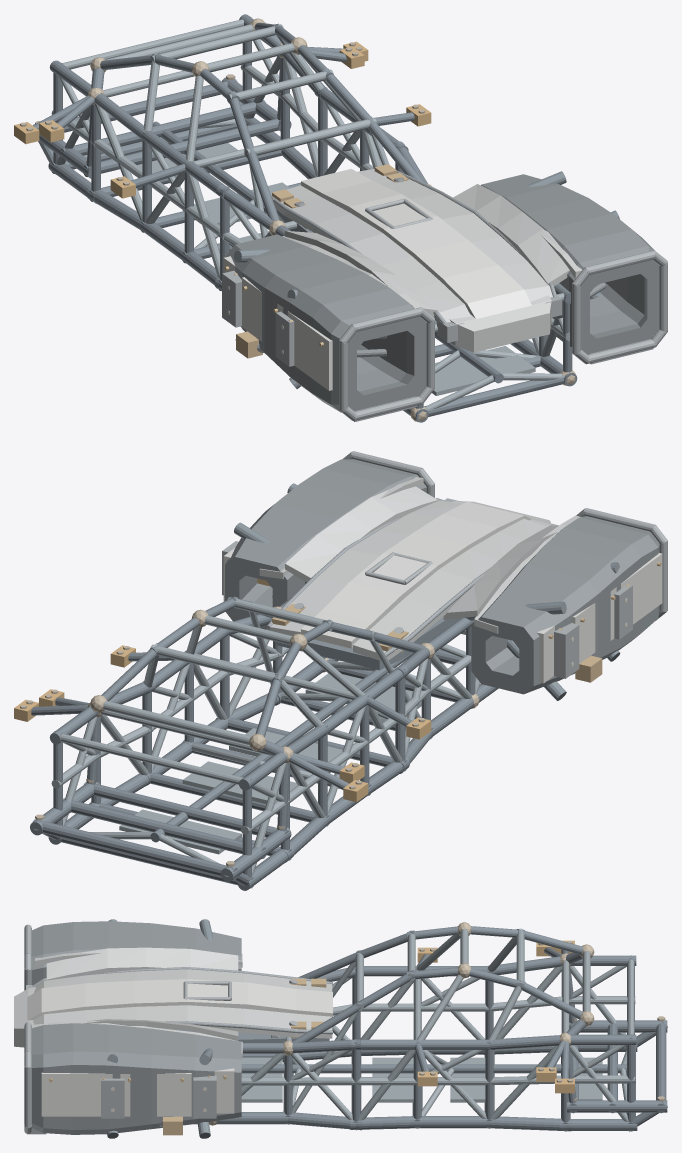
The model's file is FORGE_V18_03_Hood_Intakes_Modular.glb.
The picture shows the model from 3 angles, top to bottom: view 1: azimuth 30°, elevation 25°; view 2: azimuth 150°, elevation 25°; view 3: azimuth 270°, elevation 25°; orthographic projection. The views are drawn at different scales.
Visible parts, largest first — view 1: V18_03_INTAKE_PORT_001_OpenBoreWall, V18_03_INTAKE_STBD_001_OpenBoreWall, V18_03_HOOD_010_CenterSpine, V18_03_HOOD_011_PORT_PressedOuterBonnet, V18_03_HOOD_011_STBD_PressedOuterBonnet, V18_03_HOOD_016_ForgedNoseBeak, V18_03_HOOD_017_STBD_ForwardShoulderTiePlate, V18_03_INTAKE_PORT_011_SideArmor_0, REMOVABLE_BELLY_PAN_0, ENGINE_CROSSBAR_0, ENGINE_CROSSBAR_1, FLOOR_CROSSMEMBER_00 (+44 smaller); view 2: V18_03_INTAKE_PORT_001_OpenBoreWall, V18_03_INTAKE_STBD_001_OpenBoreWall, V18_03_HOOD_010_CenterSpine, V18_03_HOOD_011_PORT_PressedOuterBonnet, V18_03_HOOD_011_STBD_PressedOuterBonnet, V18_03_HOOD_017_STBD_AftShoulderTiePlate, ENGINE_CROSSBAR_2, ENGINE_CROSSBAR_1, ENGINE_CROSSBAR_0, V18_03_HOOD_017_STBD_ForwardShoulderTiePlate, V18_03_HOOD_017_PORT_AftShoulderTiePlate, V18_03_INTAKE_PORT_011_SideArmor_0 (+32 smaller); view 3: V18_03_INTAKE_STBD_001_OpenBoreWall, V18_03_HOOD_010_CenterSpine, V18_03_INTAKE_PORT_001_OpenBoreWall, V18_03_HOOD_011_STBD_PressedOuterBonnet, V18_03_HOOD_011_PORT_PressedOuterBonnet, V18_03_INTAKE_STBD_011_SideArmor_0, V18_03_HOOD_017_PORT_ForwardShoulderTiePlate, V18_03_INTAKE_STBD_011_SideArmor_1, V18_03_HOOD_017_PORT_AftShoulderTiePlate, REMOVABLE_BELLY_PAN_1, V18_03_INTAKE_STBD_004_Clevis_1, REMOVABLE_BELLY_PAN_2 (+85 smaller).
Part boxes in pixels (box(x1,y1,x2,y2)): V18_03_INTAKE_PORT_001_OpenBoreWall: box(225, 234, 426, 412); V18_03_INTAKE_STBD_001_OpenBoreWall: box(481, 174, 659, 354); V18_03_HOOD_010_CenterSpine: box(301, 169, 531, 318); V18_03_HOOD_011_PORT_PressedOuterBonnet: box(271, 185, 471, 323); V18_03_HOOD_011_STBD_PressedOuterBonnet: box(357, 169, 552, 301); V18_03_HOOD_016_ForgedNoseBeak: box(436, 295, 551, 352); V18_03_HOOD_017_STBD_ForwardShoulderTiePlate: box(498, 212, 569, 285); V18_03_INTAKE_PORT_011_SideArmor_0: box(287, 311, 332, 390); REMOVABLE_BELLY_PAN_0: box(432, 346, 535, 395); ENGINE_CROSSBAR_0: box(83, 118, 278, 176); ENGINE_CROSSBAR_1: box(60, 100, 265, 160); FLOOR_CROSSMEMBER_00: box(424, 373, 564, 416); V18_03_INTAKE_PORT_001_OpenBoreWall: box(471, 516, 659, 694); V18_03_INTAKE_STBD_001_OpenBoreWall: box(225, 459, 426, 629); V18_03_HOOD_010_CenterSpine: box(301, 501, 531, 648); V18_03_HOOD_011_PORT_PressedOuterBonnet: box(353, 519, 547, 660); V18_03_HOOD_011_STBD_PressedOuterBonnet: box(267, 500, 461, 635); V18_03_HOOD_017_STBD_AftShoulderTiePlate: box(285, 513, 371, 582); ENGINE_CROSSBAR_2: box(33, 819, 237, 879); ENGINE_CROSSBAR_1: box(63, 798, 265, 858); ENGINE_CROSSBAR_0: box(84, 782, 288, 842); V18_03_HOOD_017_STBD_ForwardShoulderTiePlate: box(347, 486, 437, 531); V18_03_HOOD_017_PORT_AftShoulderTiePlate: box(443, 556, 522, 619); V18_03_INTAKE_PORT_011_SideArmor_0: box(620, 553, 662, 624); V18_03_INTAKE_STBD_001_OpenBoreWall: box(32, 1023, 241, 1134); V18_03_HOOD_010_CenterSpine: box(27, 979, 332, 1020); V18_03_INTAKE_PORT_001_OpenBoreWall: box(32, 921, 241, 984); V18_03_HOOD_011_STBD_PressedOuterBonnet: box(33, 1005, 332, 1038); V18_03_HOOD_011_PORT_PressedOuterBonnet: box(34, 969, 332, 992); V18_03_INTAKE_STBD_011_SideArmor_0: box(41, 1072, 112, 1116); V18_03_HOOD_017_PORT_ForwardShoulderTiePlate: box(46, 947, 146, 980); V18_03_INTAKE_STBD_011_SideArmor_1: box(120, 1073, 191, 1116); V18_03_HOOD_017_PORT_AftShoulderTiePlate: box(146, 947, 238, 970); REMOVABLE_BELLY_PAN_1: box(241, 1057, 282, 1102); V18_03_INTAKE_STBD_004_Clevis_1: box(193, 1075, 216, 1118); REMOVABLE_BELLY_PAN_2: box(372, 1057, 413, 1102).
Bounding box in the file's own units: 4.2 × 1.98 × 7.81.
